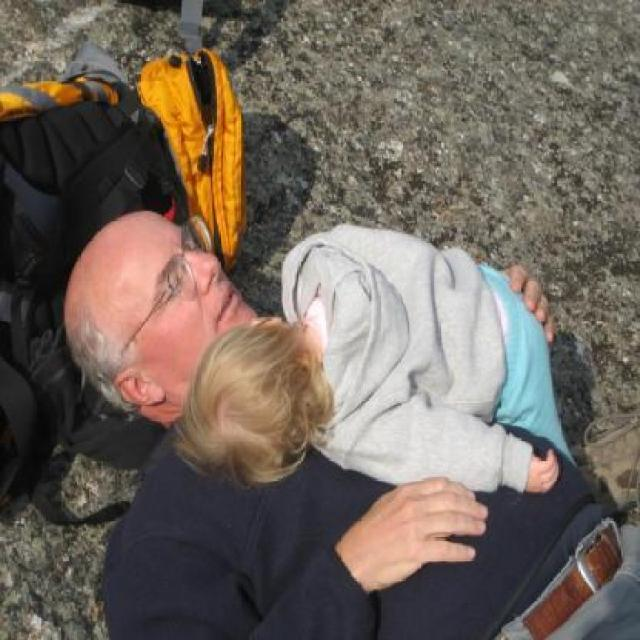backpack: (132, 43, 254, 280)
